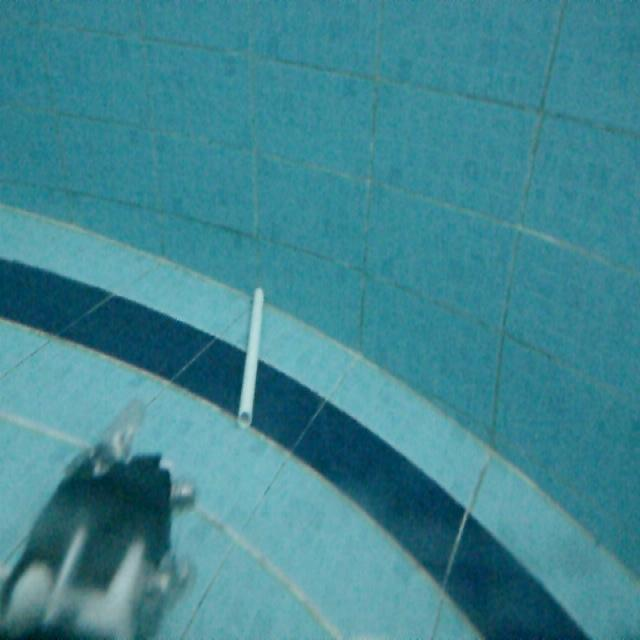Cube: (233, 282, 267, 429)
